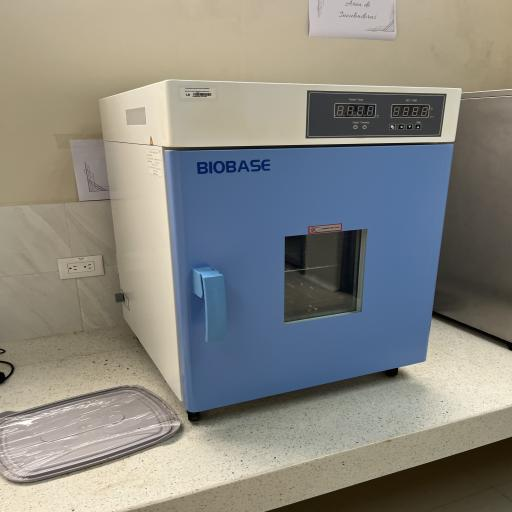Horno_Secado_Biobase: (86, 70, 470, 428)
